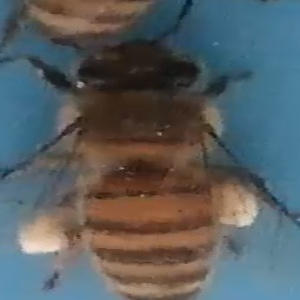bee: (18, 38, 295, 300)
